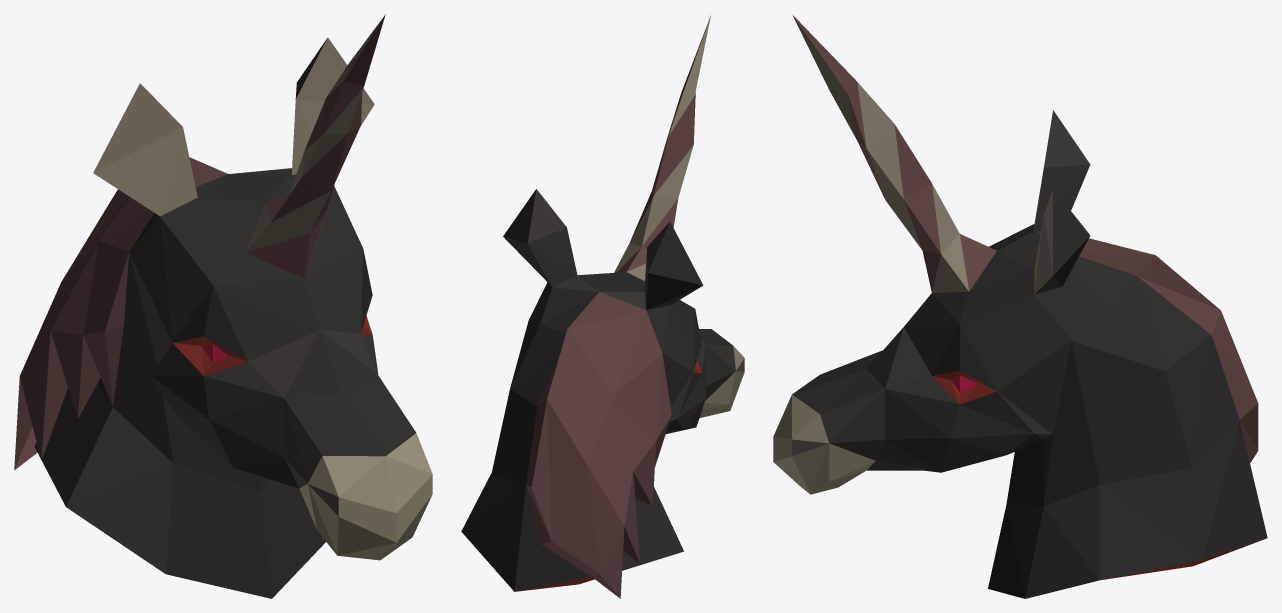
3 views of the same model, side by side, from view 1: azimuth 30°, elevation 25°; view 2: azimuth 150°, elevation 25°; view 3: azimuth 270°, elevation 25° (orthographic). The views are drawn at different scales.
Bounding box in the file's own units: 30 × 68 × 53.
